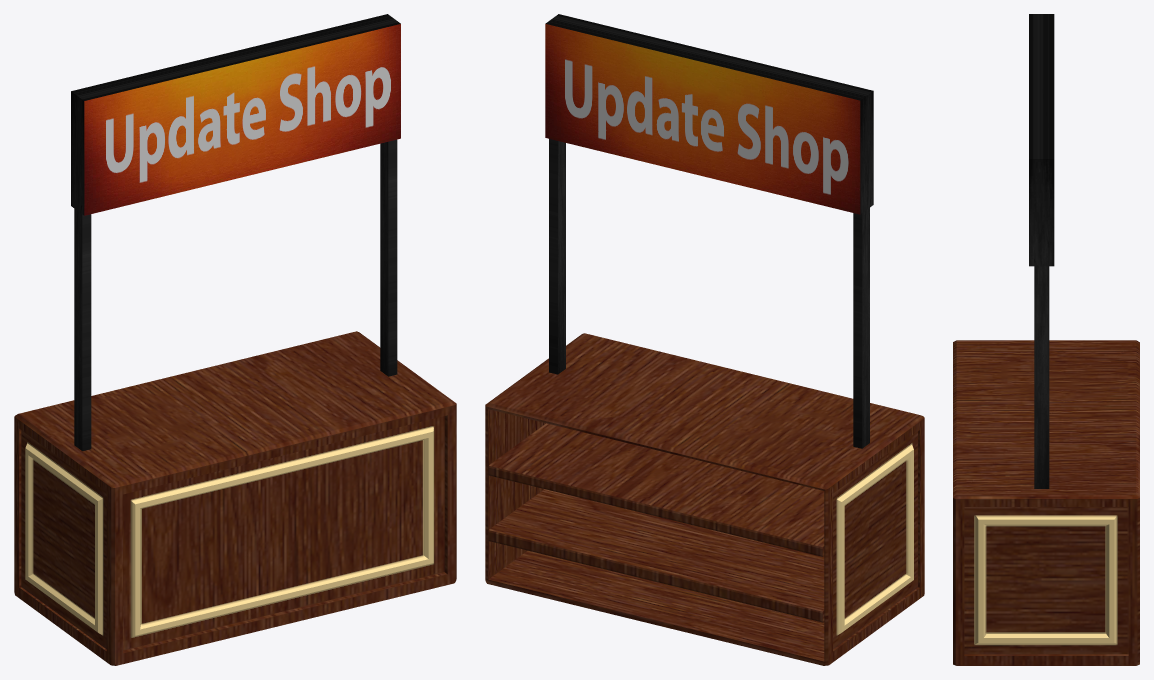
Rendered from update_shop_counter.fbx.
3 views of the same model, side by side, from view 1: azimuth 30°, elevation 25°; view 2: azimuth 150°, elevation 25°; view 3: azimuth 270°, elevation 25° (orthographic). The views are drawn at different scales.
Parts seen in each view (by area): view 1: pickup_counter1; view 2: pickup_counter1; view 3: pickup_counter1.
Part boxes in pixels (box(x1,y1,x2,y2)): pickup_counter1: box(14, 14, 456, 665); pickup_counter1: box(485, 14, 924, 665); pickup_counter1: box(953, 14, 1139, 665).
Bounding box in the file's own units: 40.25 × 20.06 × 59.18.
Materials: 2 (2 with a texture image).
